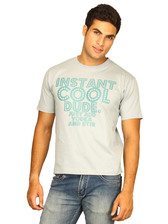clothoes: (30, 55, 149, 181)
